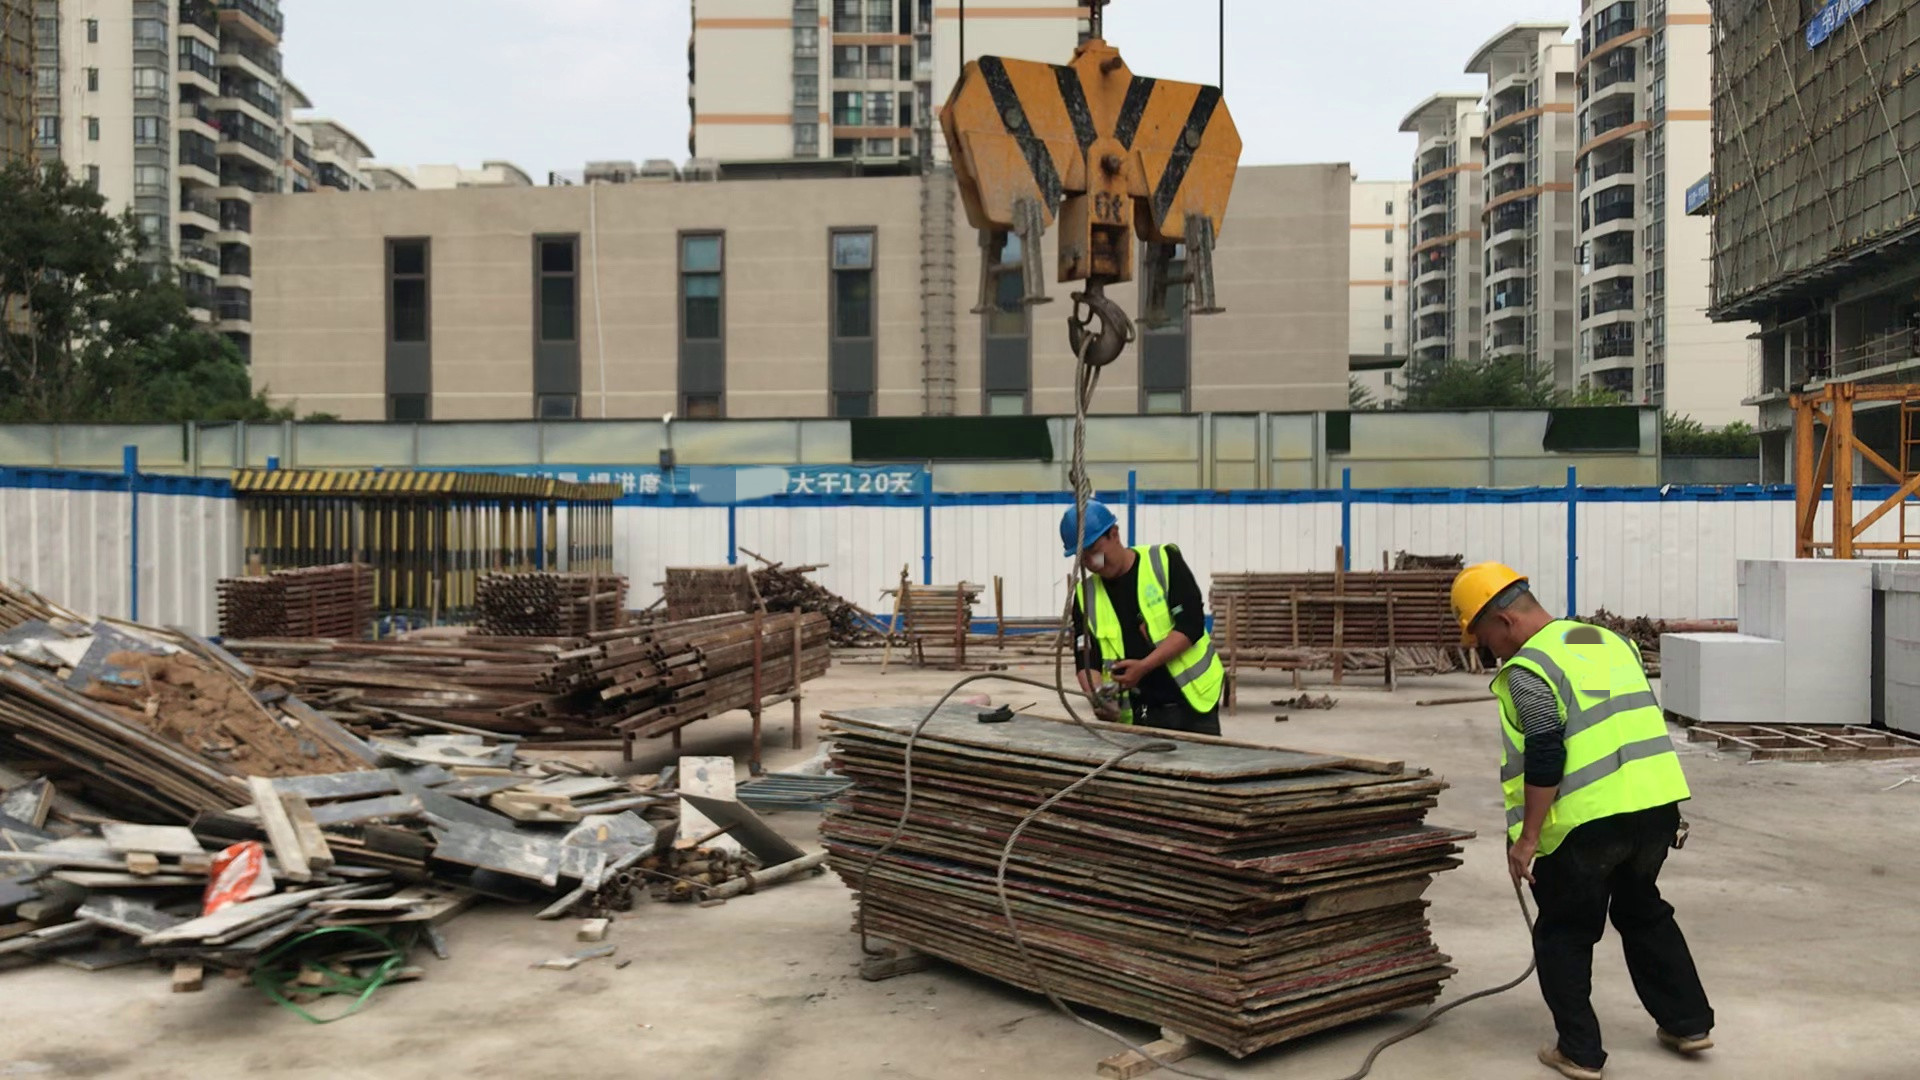board: (814, 699, 1473, 1056)
brick: (1663, 557, 1920, 737)
helmet: (1450, 560, 1528, 647), (1058, 501, 1118, 559)
hook: (939, 46, 1244, 375)
person: (1445, 558, 1720, 1080), (1056, 497, 1228, 735)
scaffold: (1211, 572, 1444, 653), (218, 564, 377, 644), (477, 574, 621, 641), (898, 583, 976, 641), (669, 564, 747, 612)
slogan: (495, 461, 918, 497), (1809, 1, 1854, 46)
vest: (1491, 616, 1703, 858), (1071, 545, 1224, 716)
